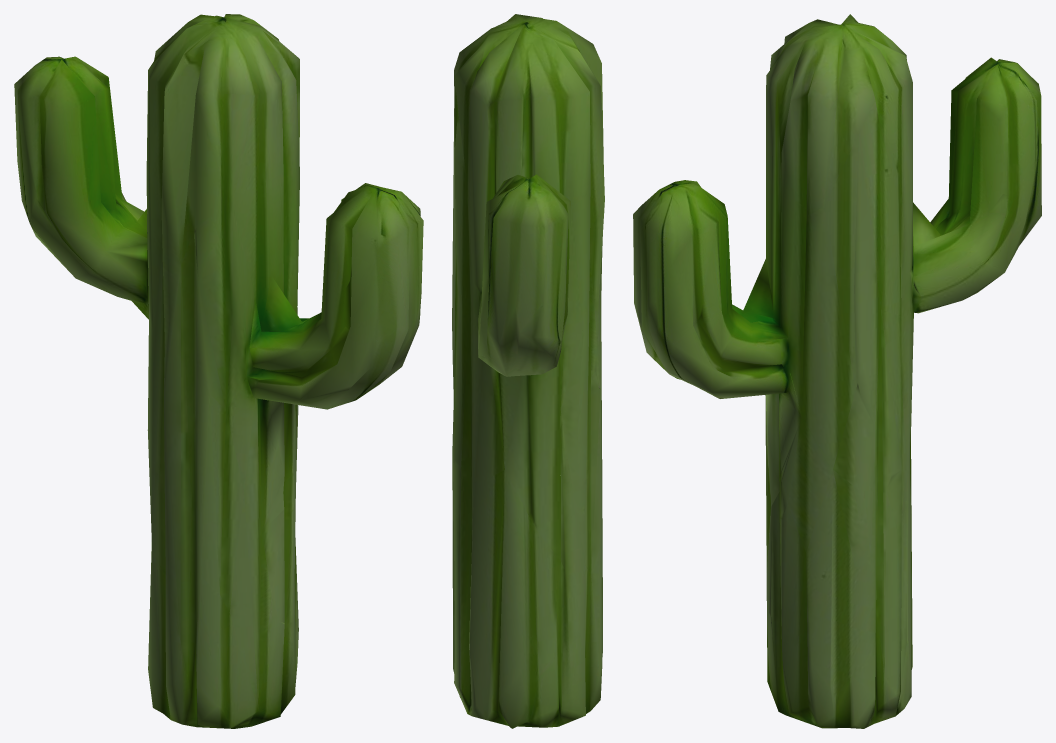
File: cactus.glb
The picture shows the model from 3 angles, left to right: view 1: azimuth 30°, elevation 25°; view 2: azimuth 150°, elevation 25°; view 3: azimuth 270°, elevation 25°; orthographic projection.
Visible parts, largest first — view 1: tripo_node_8d79367d-316e-4eda-a4a3-396b0a3f3f3f; view 2: tripo_node_8d79367d-316e-4eda-a4a3-396b0a3f3f3f; view 3: tripo_node_8d79367d-316e-4eda-a4a3-396b0a3f3f3f.
Boxes of the visible parts, x1,y1,x2,y2 form: tripo_node_8d79367d-316e-4eda-a4a3-396b0a3f3f3f: (14, 14, 423, 728); tripo_node_8d79367d-316e-4eda-a4a3-396b0a3f3f3f: (452, 14, 604, 728); tripo_node_8d79367d-316e-4eda-a4a3-396b0a3f3f3f: (633, 14, 1041, 728).
Bounding box in the file's own units: 0.3597 × 1 × 0.5454.
1 material, 1 textured.
